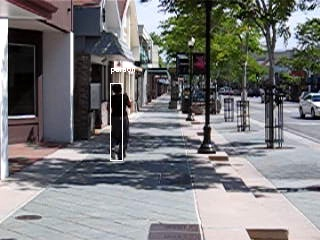person: (107, 84, 132, 162), (106, 84, 131, 162), (108, 84, 133, 162), (107, 83, 132, 161), (107, 85, 132, 163)
target_negative: (26, 68, 234, 180), (105, 156, 236, 232), (48, 202, 106, 232), (38, 77, 65, 99)
